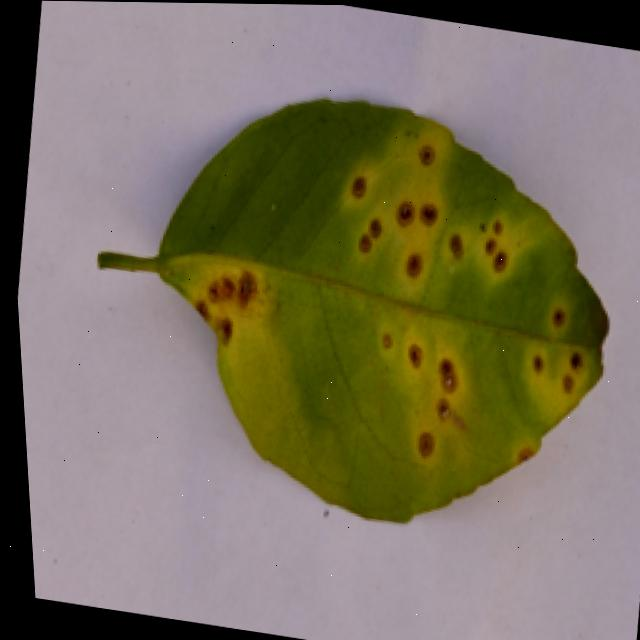canker: (100, 99, 607, 520), (314, 122, 564, 304), (358, 331, 470, 459), (379, 321, 476, 463), (160, 238, 280, 343), (504, 339, 585, 431), (531, 287, 586, 338), (533, 351, 581, 404), (485, 437, 537, 462)
